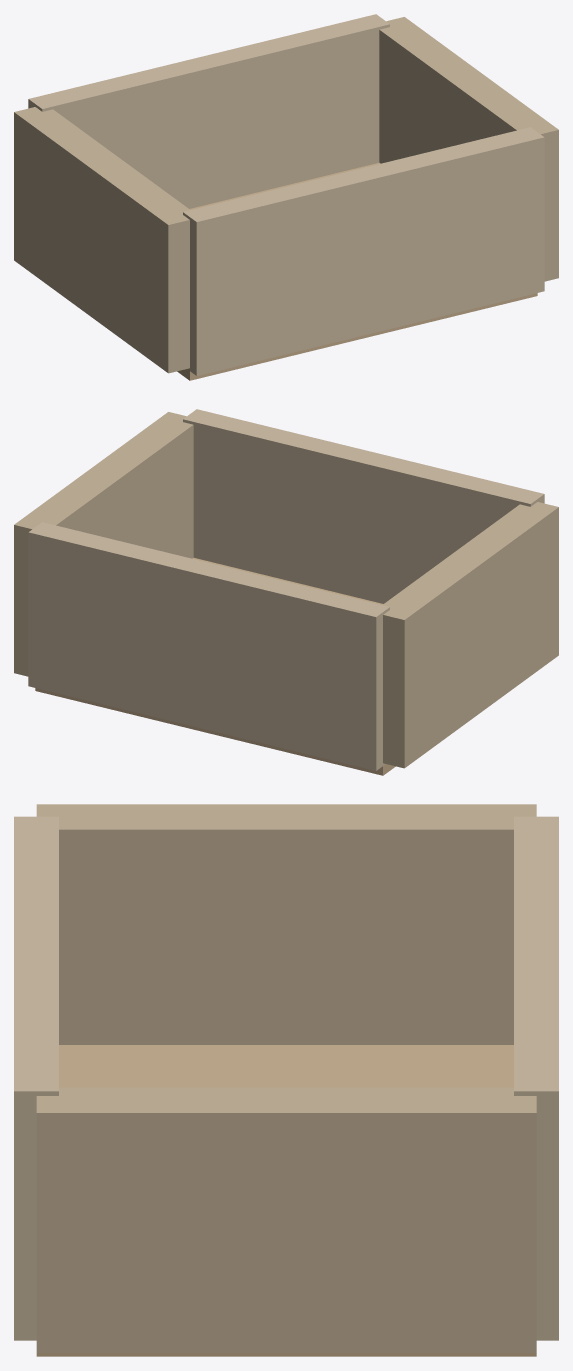
3 renders of one model, top to bottom at view 1: azimuth 30°, elevation 25°; view 2: azimuth 150°, elevation 25°; view 3: azimuth 270°, elevation 25°, orthographic. The views are drawn at different scales.
Parts seen in each view (by area): view 1: obj_0004, obj_0002, obj_0001, obj_0003, obj_0000; view 2: obj_0002, obj_0004, obj_0001, obj_0003, obj_0000; view 3: obj_0003, obj_0001, obj_0000, obj_0002, obj_0004.
Boxes of the visible parts, x1,y1,x2,y2 form: obj_0004: (183, 127, 544, 375); obj_0002: (28, 14, 389, 208); obj_0001: (14, 107, 190, 373); obj_0003: (379, 17, 558, 281); obj_0000: (177, 162, 537, 380); obj_0002: (28, 522, 389, 770); obj_0004: (183, 409, 544, 603); obj_0001: (382, 502, 558, 768); obj_0003: (14, 412, 193, 676); obj_0000: (35, 557, 395, 775); obj_0003: (36, 1087, 536, 1352); obj_0001: (36, 804, 536, 1044); obj_0000: (36, 1045, 536, 1356); obj_0002: (514, 816, 558, 1340); obj_0004: (14, 816, 58, 1340).
Bounding box in the file's own units: 1.46 × 0.585 × 1.09.
